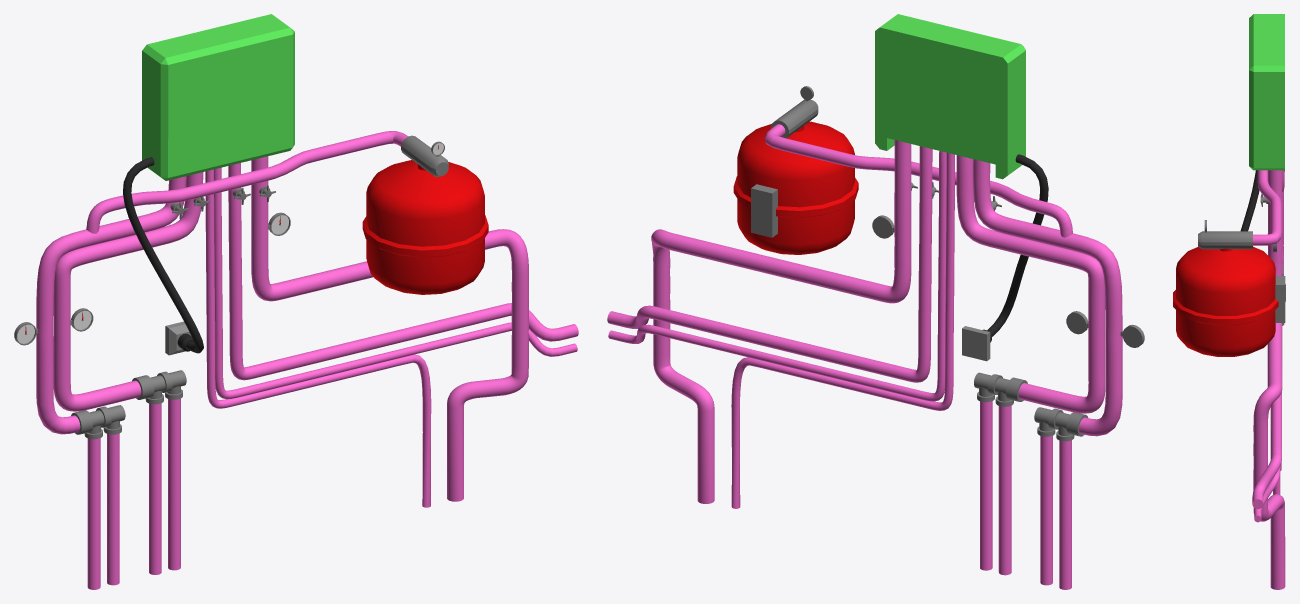
Rendered from Boiler.fbx.
3 views of the same model, side by side, from view 1: azimuth 30°, elevation 25°; view 2: azimuth 150°, elevation 25°; view 3: azimuth 270°, elevation 25° (orthographic). The views are drawn at different scales.
Parts seen in each view (by area): view 1: Pipes, BoilerBox, Boiler, PipeDeviders, Cable, Temperature, BoilerMetallic; view 2: Pipes, BoilerBox, Boiler, PipeDeviders, BoilerMetallic, Cable, Temperature, ELOutlet; view 3: Boiler, Pipes, BoilerBox, BoilerMetallic, Cable.
Boxes of the visible parts, x1,y1,x2,y2 form: Pipes: [36, 131, 578, 589]; BoilerBox: [142, 14, 294, 180]; Boiler: [362, 160, 488, 294]; PipeDeviders: [71, 370, 186, 439]; Cable: [123, 157, 203, 353]; Temperature: [14, 141, 444, 345]; BoilerMetallic: [401, 135, 448, 176]; Pipes: [607, 124, 1122, 589]; BoilerBox: [875, 14, 1025, 179]; Boiler: [733, 121, 858, 254]; PipeDeviders: [974, 372, 1088, 441]; BoilerMetallic: [751, 99, 818, 237]; Cable: [982, 154, 1048, 342]; Temperature: [800, 86, 1144, 347]; ELOutlet: [962, 326, 990, 361]; Boiler: [1173, 246, 1278, 356]; Pipes: [1252, 170, 1285, 589]; BoilerBox: [1249, 14, 1284, 170]; BoilerMetallic: [1198, 231, 1285, 322]; Cable: [1240, 170, 1259, 231].
Bounding box in the file's own units: 249 × 228 × 52.19.
